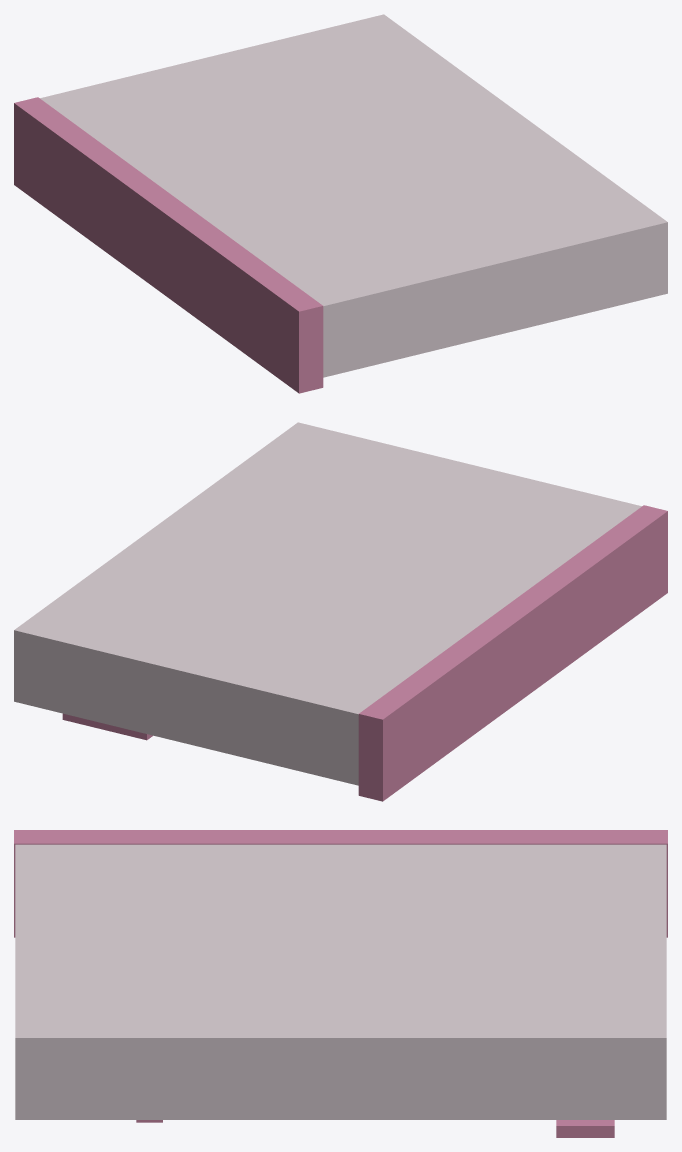
File: tissage.glb
The picture shows the model from 3 angles, top to bottom: view 1: azimuth 30°, elevation 25°; view 2: azimuth 150°, elevation 25°; view 3: azimuth 270°, elevation 25°; orthographic projection. The views are drawn at different scales.
Parts seen in each view (by area): view 1: Tissage carton, Tissage spine; view 2: Tissage carton, Tissage spine, Tissage edition chip; view 3: Tissage carton, Tissage spine, Tissage edition chip.
Part boxes in pixels (x1,y1,x2,y2): Tissage carton: [40, 14, 667, 377]; Tissage spine: [14, 97, 323, 393]; Tissage carton: [14, 422, 641, 785]; Tissage spine: [358, 505, 667, 801]; Tissage edition chip: [62, 713, 152, 740]; Tissage carton: [15, 844, 666, 1119]; Tissage spine: [14, 830, 667, 937]; Tissage edition chip: [556, 1120, 614, 1137].
Bounding box in the file's own units: 1.84 × 0.4825 × 2.46.
